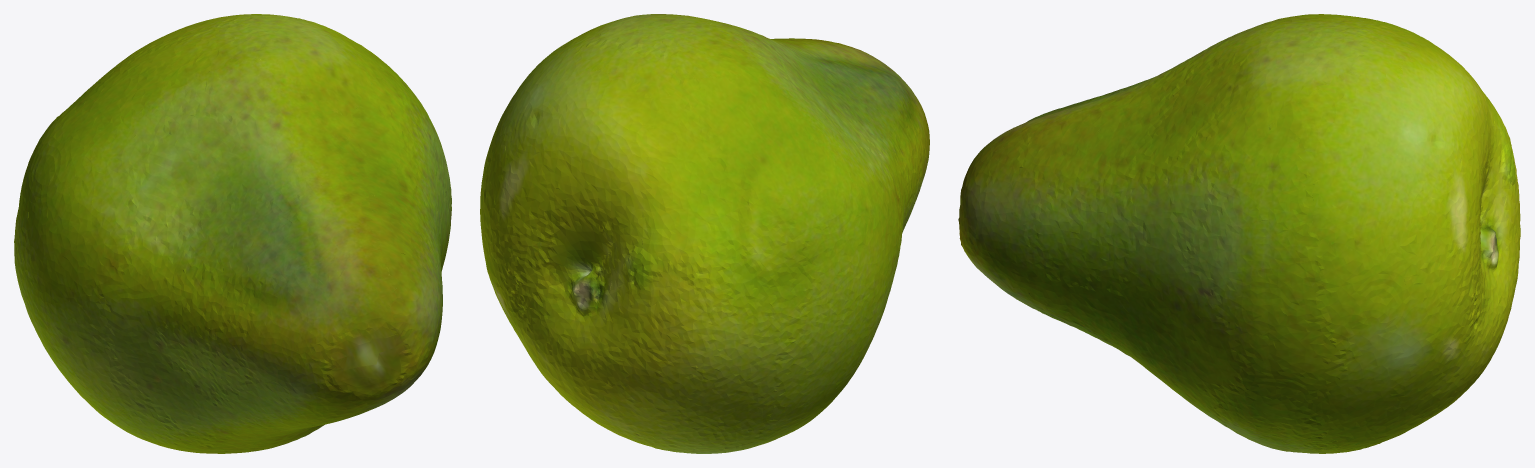
The model's file is pear.obj.
3 views of the same model, side by side, from view 1: azimuth 30°, elevation 25°; view 2: azimuth 150°, elevation 25°; view 3: azimuth 270°, elevation 25° (orthographic). The views are drawn at different scales.
Parts seen in each view (by area): view 1: pear; view 2: pear; view 3: pear.
Boxes of the visible parts, x1,y1,x2,y2 form: pear: (14,14,451,453); pear: (480,14,929,453); pear: (958,14,1520,453).
Bounding box in the file's own units: 0.0775 × 0.0771 × 0.0943.
